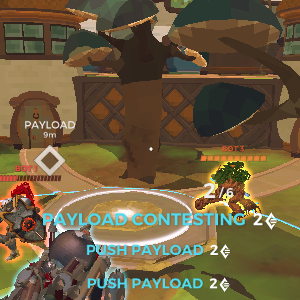model: (1, 185, 42, 262), (197, 163, 257, 214)
